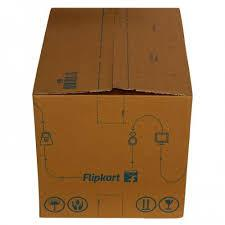Cardboard: (19, 6, 225, 225)
